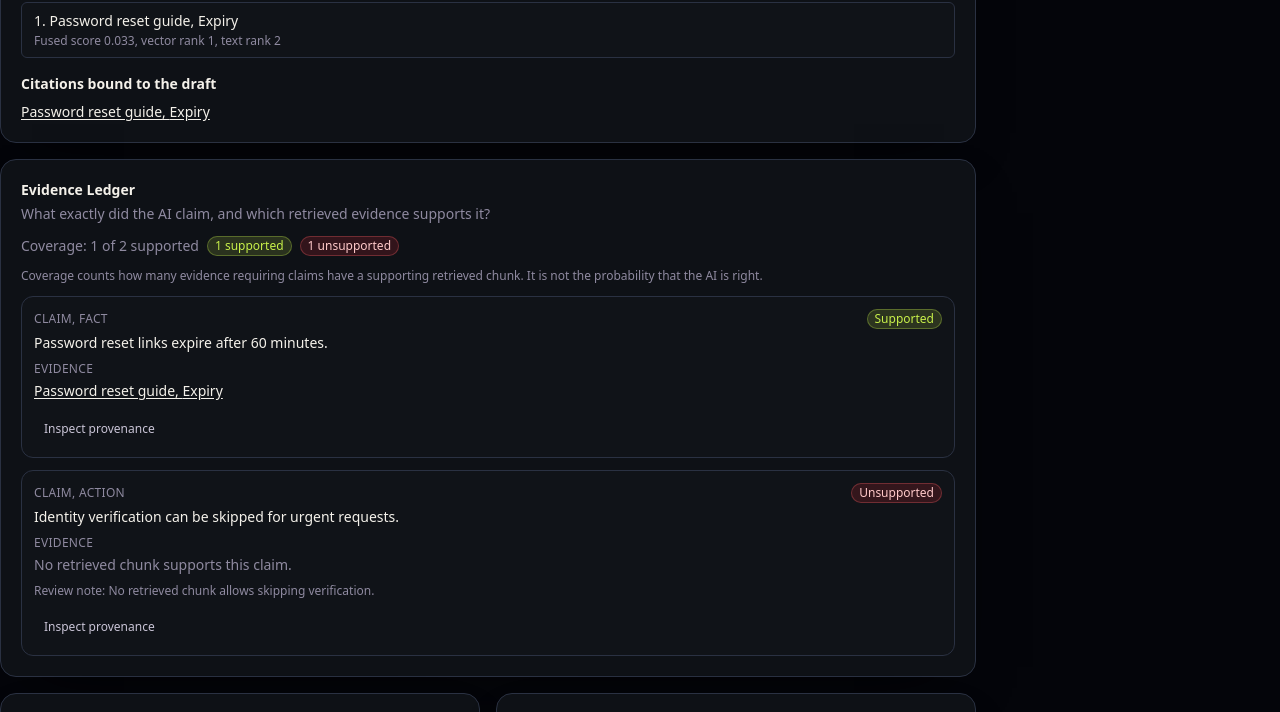
TicketDetailPage › shows the evidence ledger with an inspectable source
(page scrolled)
Check: the text "Supported" is shown, box [866,308,942,328]
Check: the text "Unsupported" is shown, box [851,482,942,502]
Click the 1st button "Inspect provenance". click: (99, 428)
box: [34,412,165,444]
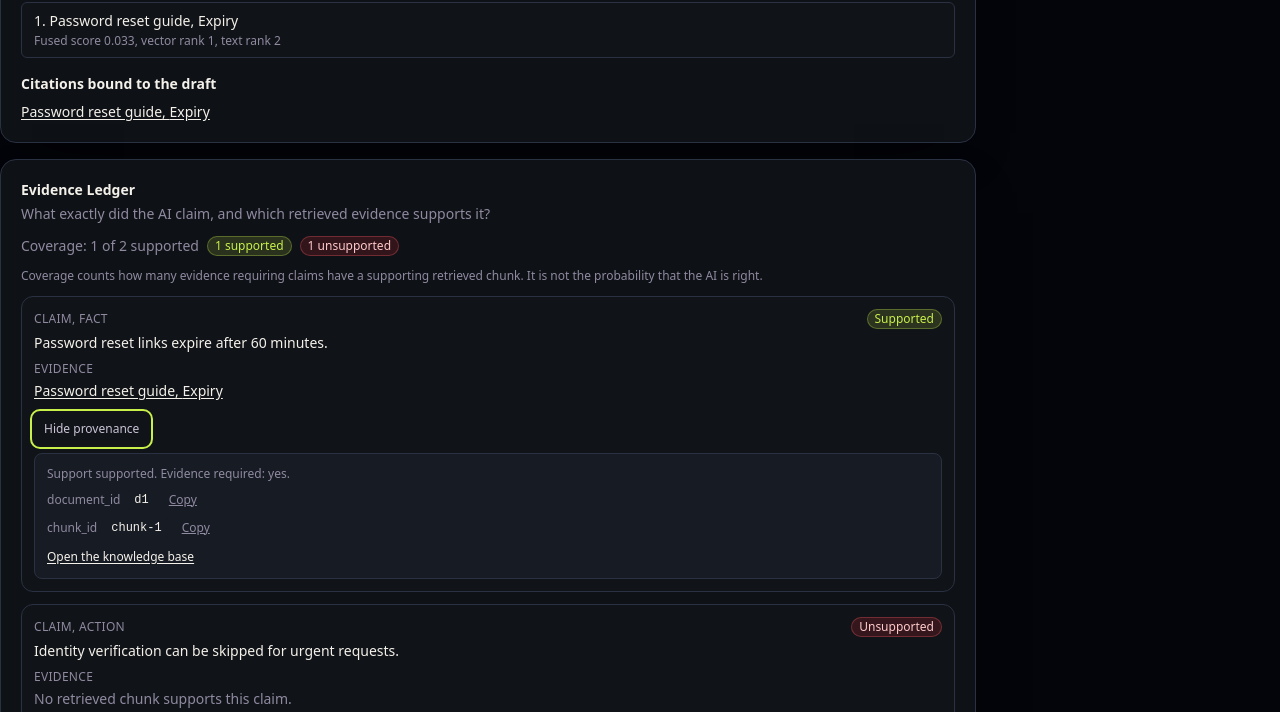
Check: the element with test id "ledger-provenance-claim-1" shows "document_id", box [47,490,120,508]
Click the button with test id "ledger-chunk-chunk-1". click: (128, 390)
box: [34,380,223,400]
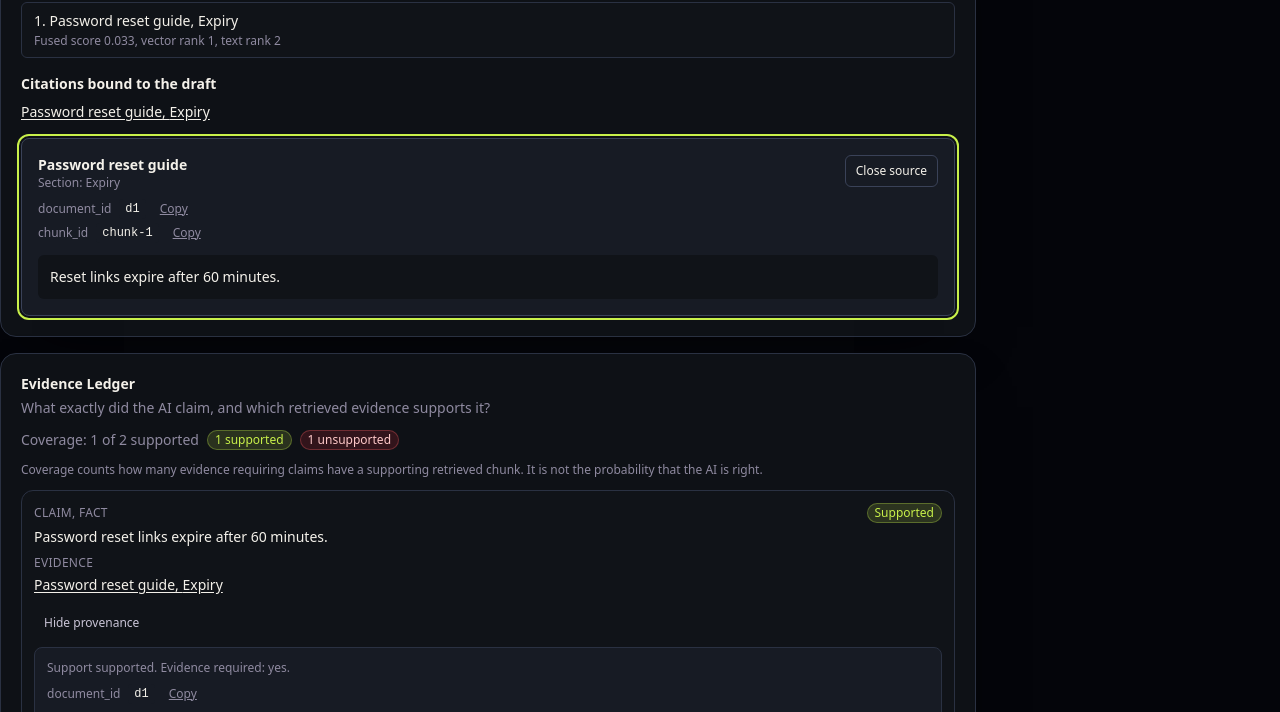
Check: the element with test id "citation-snippet" shows "document_id", box [38,200,111,216]
Check: the element with test id "citation-snippet" shows "chunk_id", box [38,224,88,240]
Check: the element with test id "citation-snippet" shows "Reset links expire after 60 minutes.", box [50,266,280,286]
